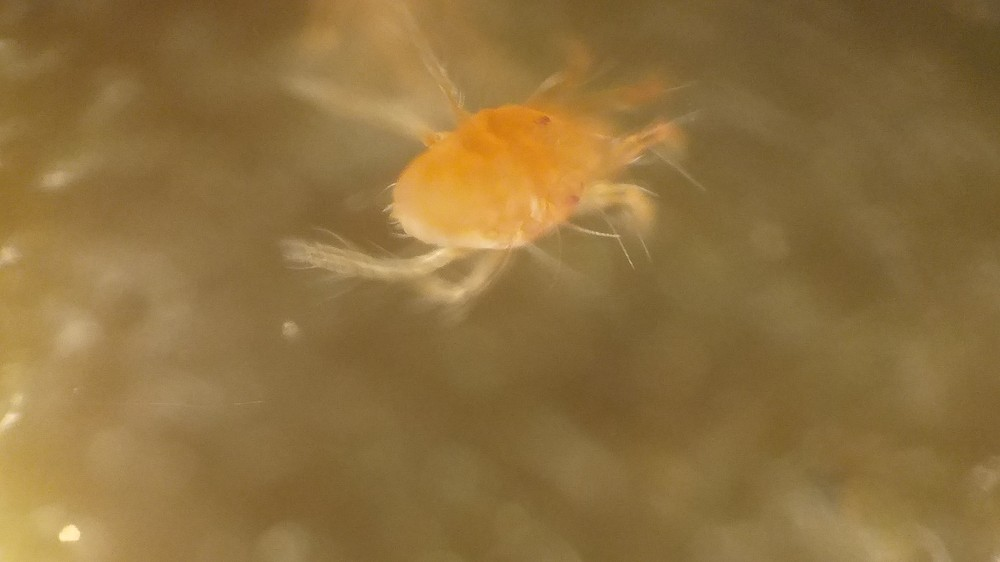Aracnido Rojo: (273, 20, 737, 333)
